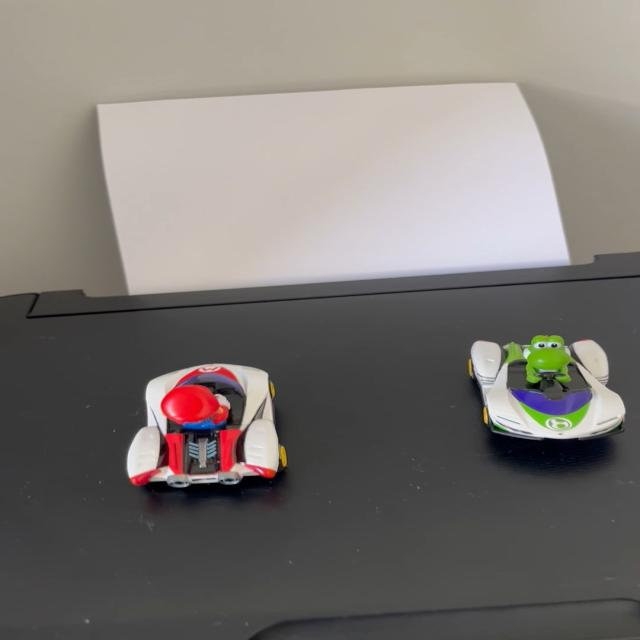mario: (109, 355, 300, 499)
yoshi: (454, 320, 638, 451)
